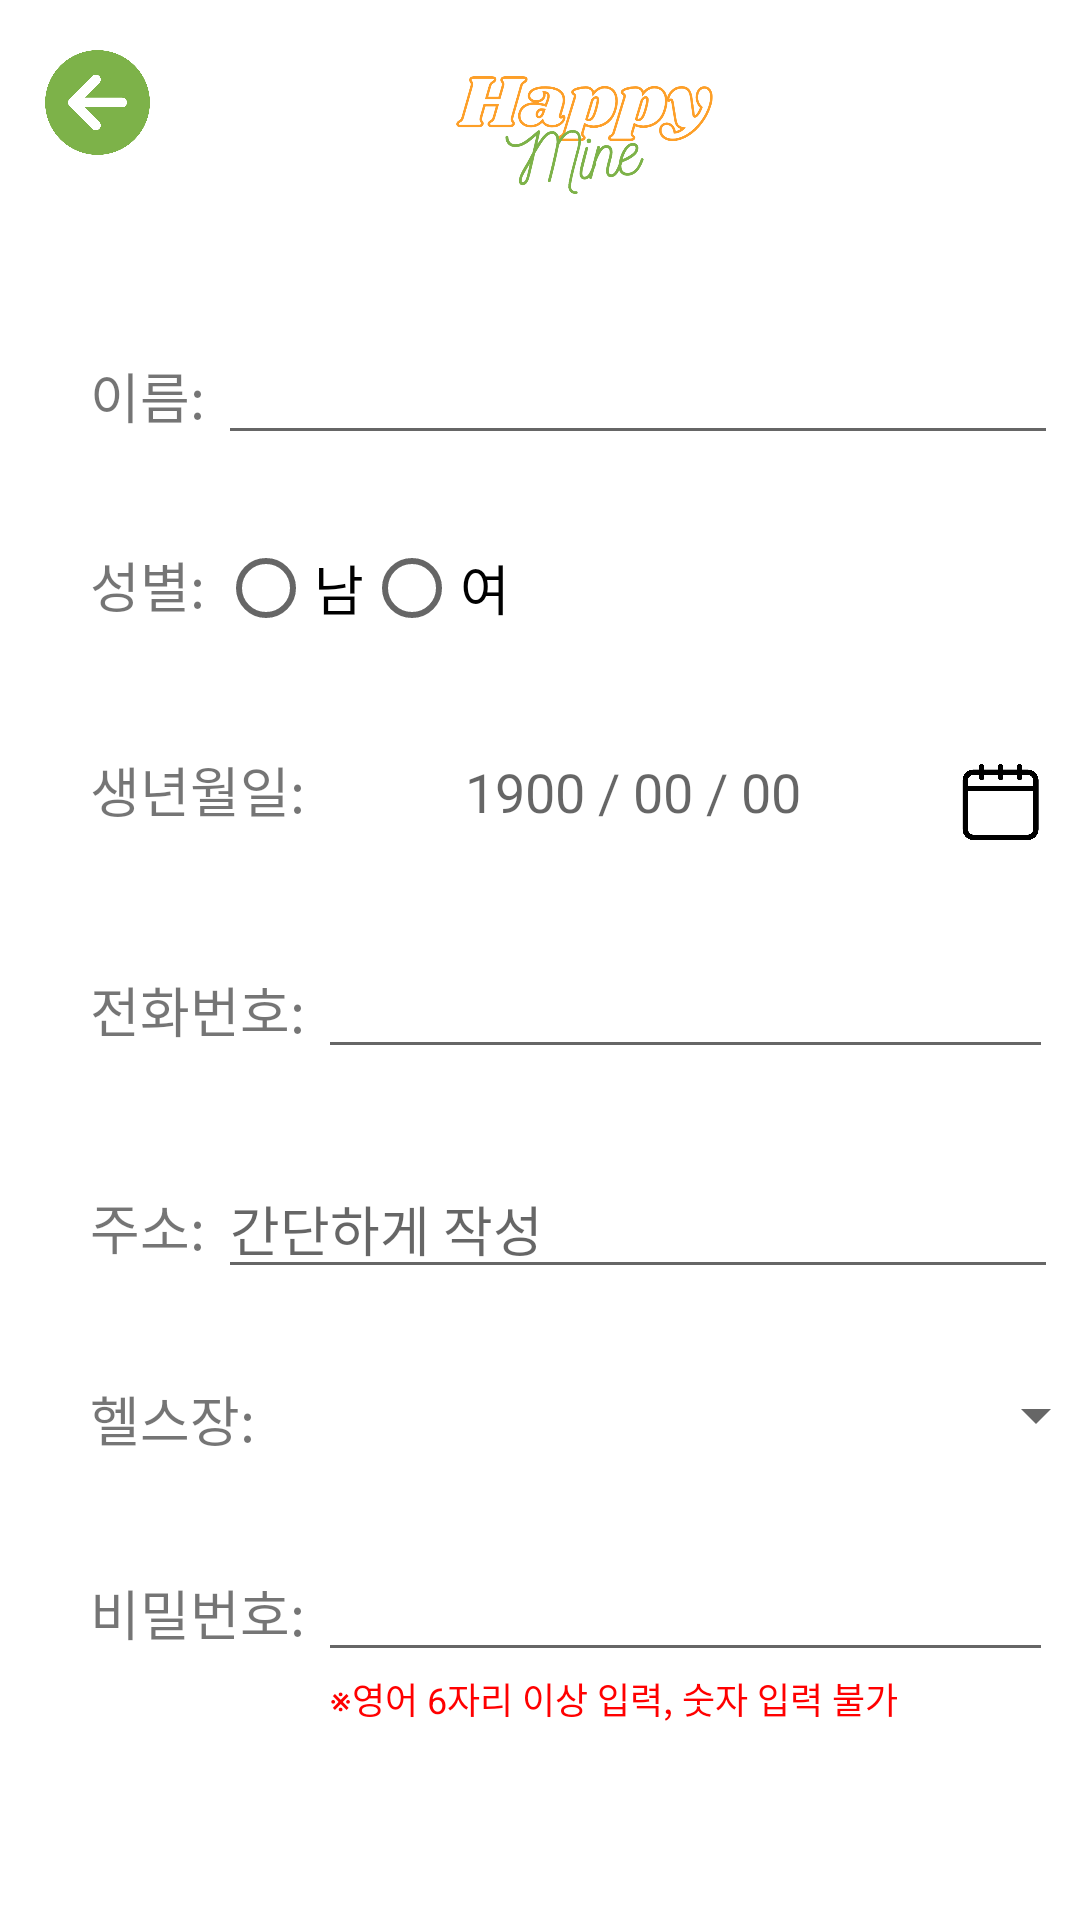

Point at icon controls on the screen. Image size 1080×1920, points as (x=x, y=y).
back: (x=97, y=102)
calender: (x=1000, y=802)
